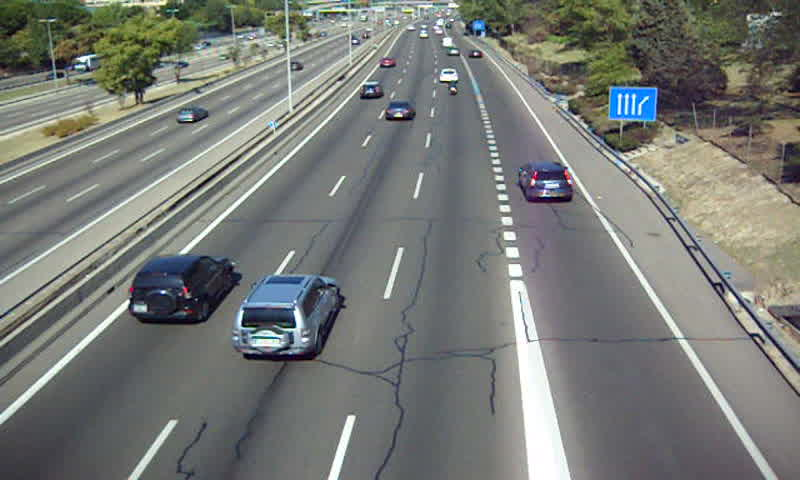car: (235, 275, 341, 362), (128, 255, 236, 323), (517, 162, 576, 204), (384, 101, 416, 123), (360, 82, 386, 101), (438, 68, 459, 82), (379, 57, 398, 68)
motorcycle: (447, 80, 459, 99)
